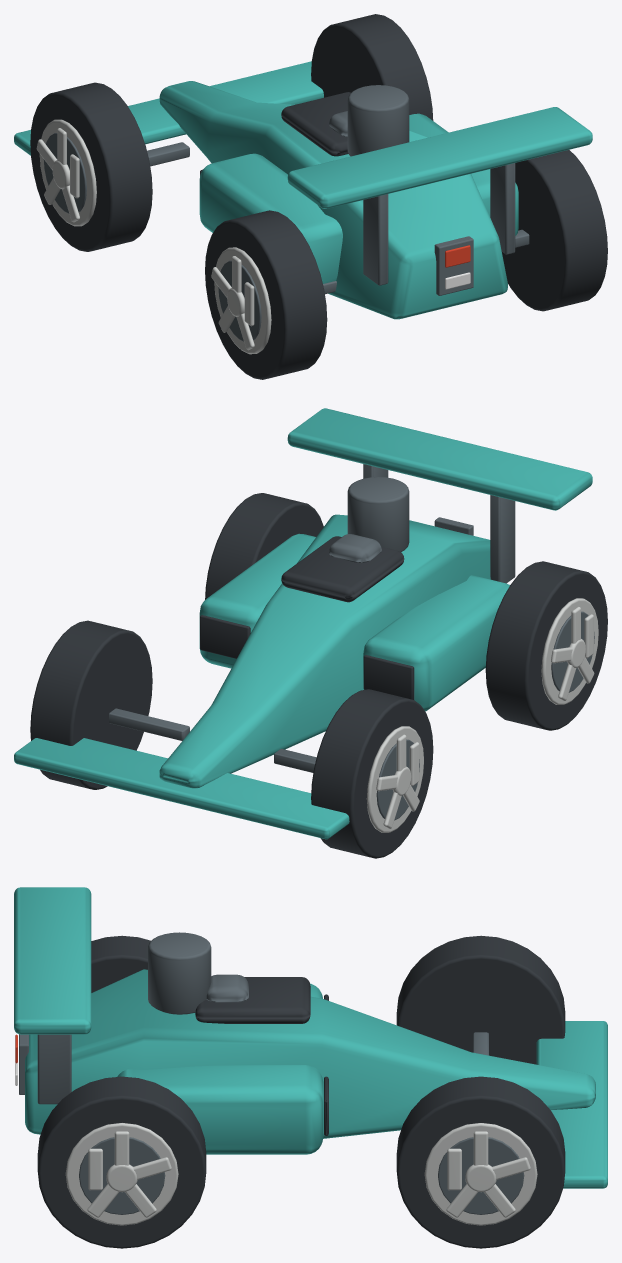
Rendered from formula_car.fbx.
3 renders of one model, top to bottom at view 1: azimuth 30°, elevation 25°; view 2: azimuth 150°, elevation 25°; view 3: azimuth 270°, elevation 25°, orthographic. The views are drawn at different scales.
Parts seen in each view (by area): view 1: Body, Tyre.003, Tyre.001, Tyre, Tyre.002, AlloyRim, AlloyRim.001, Formula lamp housing, DarkInset.001, DarkInset; view 2: Body, Tyre.002, Tyre.001, Tyre, Tyre.003, AlloyRim, AlloyRim.001, DarkInset.001, DarkInset; view 3: Body, Tyre, Tyre.002, Tyre.003, AlloyRim.002, AlloyRim.003, DarkInset.003, DarkInset.002, Tyre.001, Hub.002, Hub.003, Spoke.014 (+9 smaller).
Boxes of the visible parts, <box> form: Body: <box>14,61,592,319</box>; Tyre.003: <box>502,150,607,311</box>; Tyre.001: <box>205,210,327,379</box>; Tyre: <box>30,82,152,251</box>; Tyre.002: <box>311,14,433,120</box>; AlloyRim: <box>39,119,96,226</box>; AlloyRim.001: <box>214,247,271,354</box>; Formula lamp housing: <box>434,236,473,295</box>; DarkInset.001: <box>218,260,261,341</box>; DarkInset: <box>43,133,86,213</box>; Body: <box>14,408,592,839</box>; Tyre.002: <box>30,620,152,789</box>; Tyre.001: <box>485,561,607,730</box>; Tyre: <box>311,689,433,858</box>; Tyre.003: <box>205,493,323,599</box>; AlloyRim: <box>366,726,423,832</box>; AlloyRim.001: <box>541,598,598,704</box>; DarkInset.001: <box>551,611,594,692</box>; DarkInset: <box>376,739,419,820</box>; Body: <box>14,887,607,1188</box>; Tyre: <box>396,935,565,1064</box>; Tyre.002: <box>396,1076,565,1248</box>; Tyre.003: <box>37,1076,206,1248</box>; AlloyRim.002: <box>424,1123,537,1225</box>; AlloyRim.003: <box>65,1123,178,1225</box>; DarkInset.003: <box>79,1137,165,1214</box>; DarkInset.002: <box>438,1137,524,1214</box>; Tyre.001: <box>91,935,150,992</box>; Hub.002: <box>465,1164,496,1192</box>; Hub.003: <box>106,1164,137,1192</box>; Spoke.014: <box>447,1148,461,1190</box>.
Size of the model in its own units: 207 by 125 by 300.
